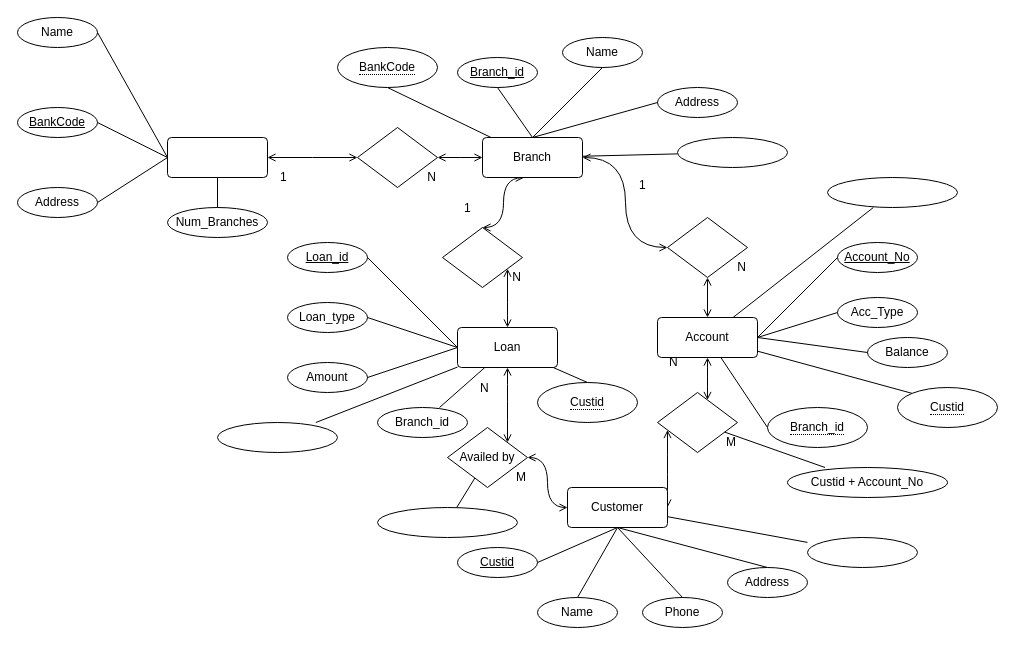
Image size: 1015x645. Some labels were removed from this diagram. Here are the shapes that lost their labels. From the top down, the centre of each, then its label:
pixel 217 157: Bank
pixel 397 157: Has
pixel 732 152: Num_Accounts
pixel 892 192: Available_Balance
pixel 482 257: Offer
pixel 707 247: Maintain
pixel 277 437: Monthly_payment
pixel 697 422: Hold by
pixel 447 522: Custid + Loan_id
pixel 862 552: Credit_Score
